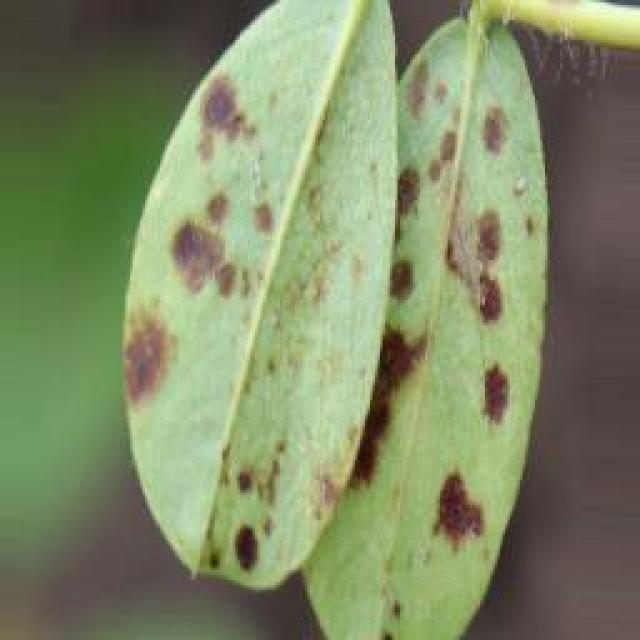Whitefly: (99, 46, 560, 610)
